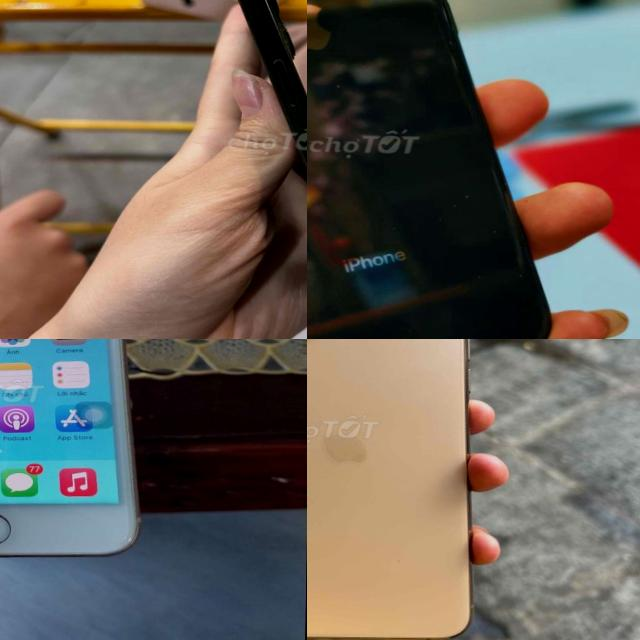scratch: (324, 78, 350, 94), (484, 219, 501, 242), (470, 272, 486, 283), (514, 269, 524, 283), (458, 191, 468, 202)
